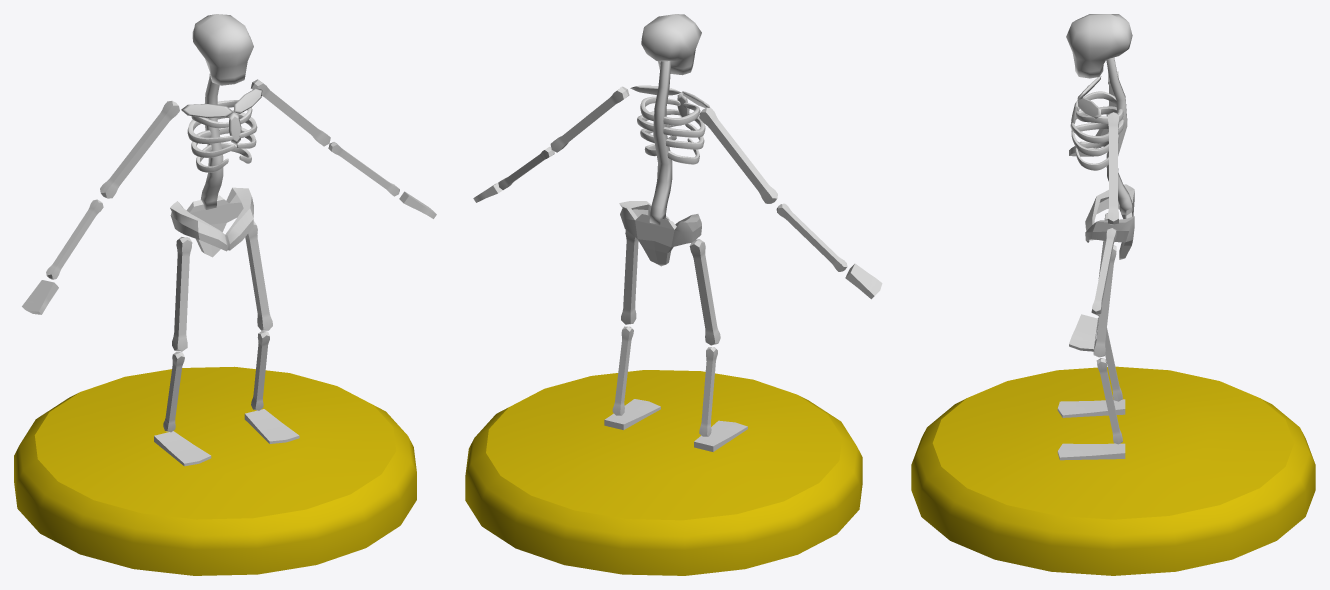
Rendered from skeleton.fbx.
The picture shows the model from 3 angles, left to right: view 1: azimuth 30°, elevation 25°; view 2: azimuth 150°, elevation 25°; view 3: azimuth 270°, elevation 25°; orthographic projection.
Parts seen in each view (by area): view 1: pedestal, skeleton_GEO:skeleton_GEO; view 2: pedestal, skeleton_GEO:skeleton_GEO; view 3: pedestal, skeleton_GEO:skeleton_GEO.
Part boxes in pixels (bbox=[...]): pedestal: bbox=[14, 366, 416, 575]; skeleton_GEO:skeleton_GEO: bbox=[22, 14, 436, 466]; pedestal: bbox=[465, 370, 862, 575]; skeleton_GEO:skeleton_GEO: bbox=[473, 14, 882, 451]; pedestal: bbox=[911, 366, 1315, 575]; skeleton_GEO:skeleton_GEO: bbox=[1057, 14, 1134, 460].
Size of the model in its own units: 8.29 by 9.29 by 7.14.
